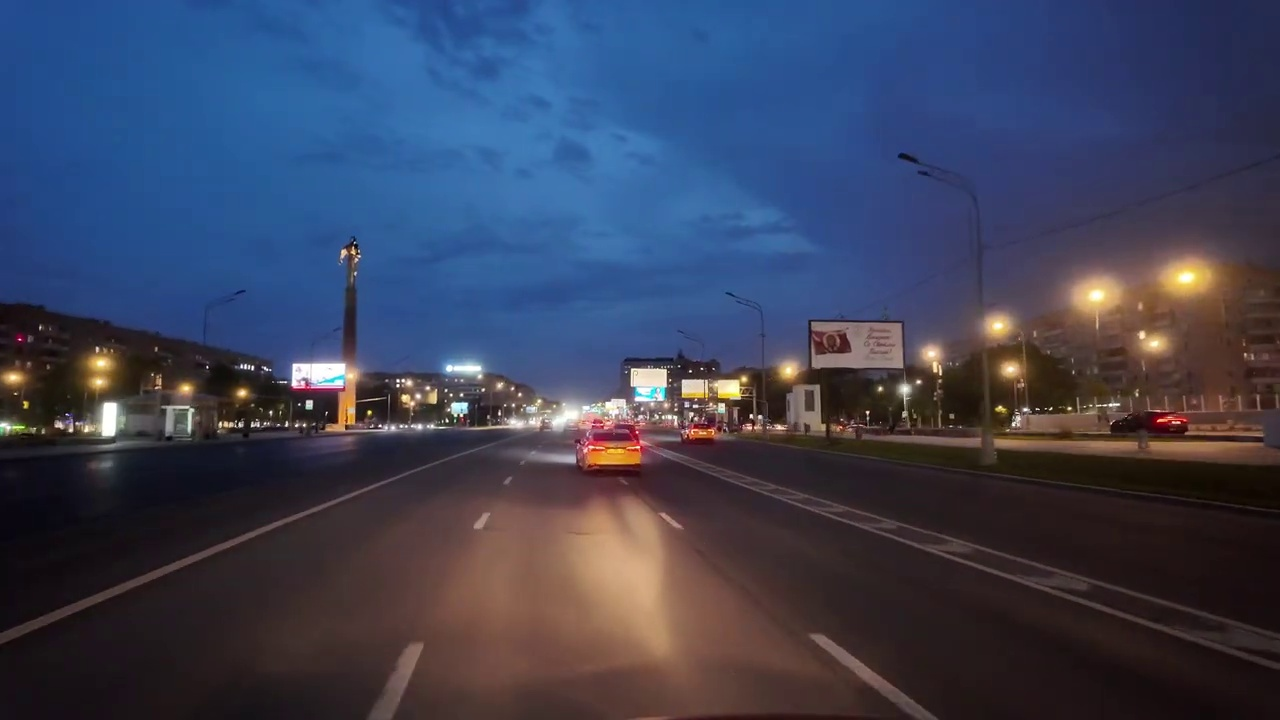acesa: (1166, 262, 1208, 295), (1076, 280, 1117, 313), (83, 353, 117, 389), (1138, 329, 1170, 358), (984, 313, 1013, 340), (775, 360, 800, 384), (919, 344, 943, 369), (998, 359, 1024, 382)
apagada: (892, 147, 921, 172)
